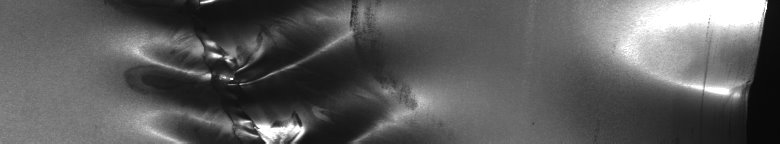ke: (135, 4, 396, 136)
